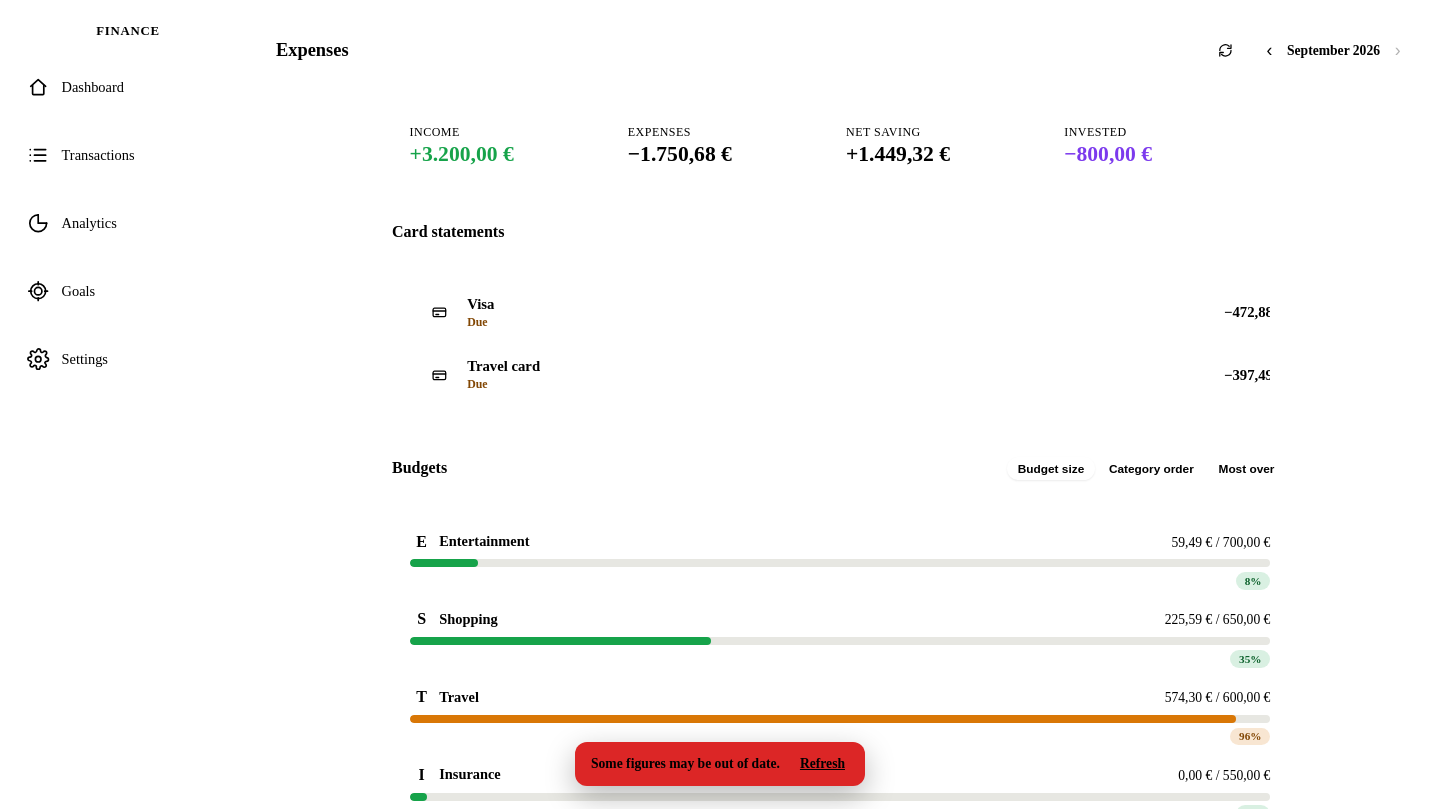
LedgerExpensesApp, a ledger that changes while it is open › tells the user, with a way to read again, when a read in the background fails
The width and height of the screenshot is (1440, 809).
Expected: the text "Some figures may be out of date." is shown, [591,756,780,771]
Click the button "Refresh" at (822,764), box [788,742,857,786]
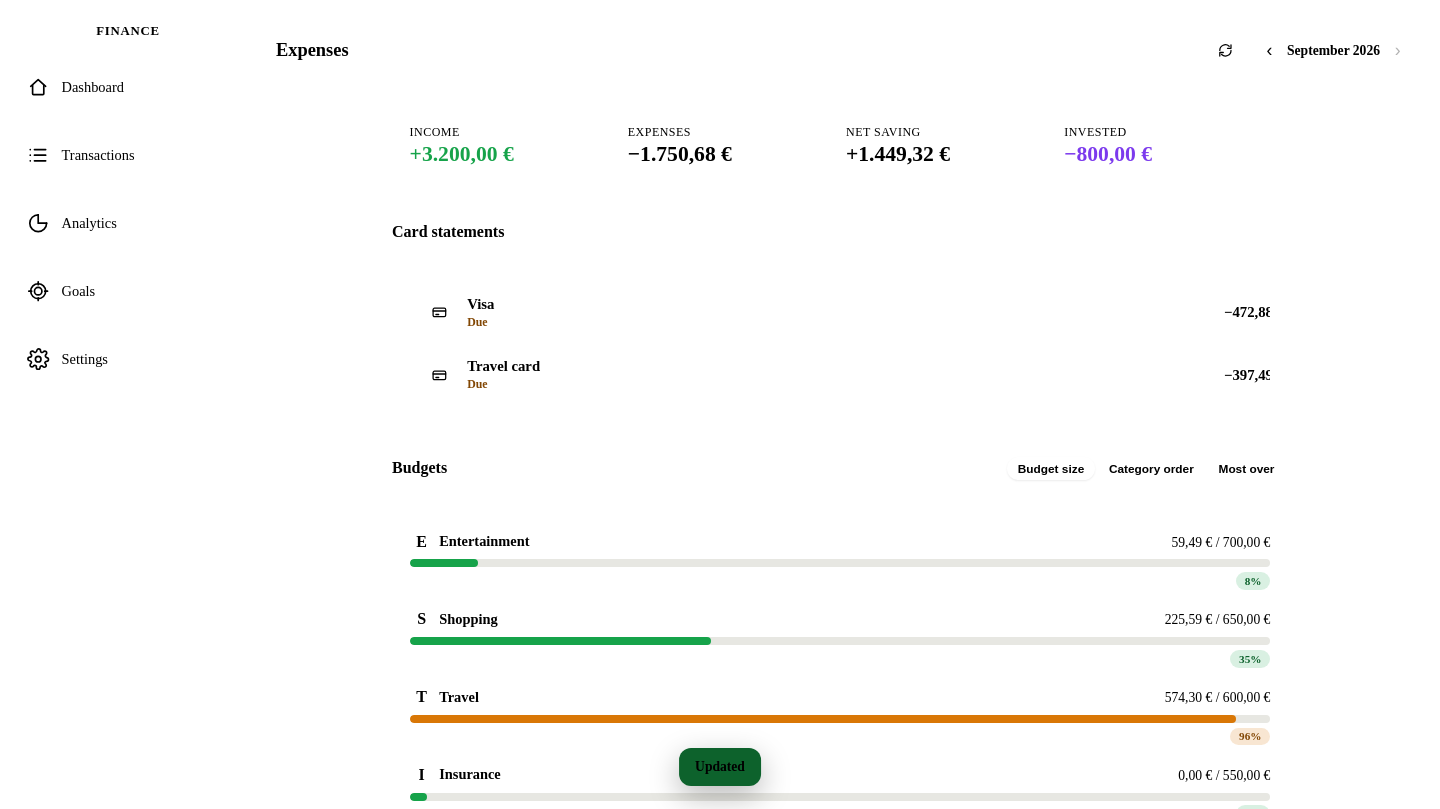
Now the text "Updated" is shown, box [679,748,761,786]
